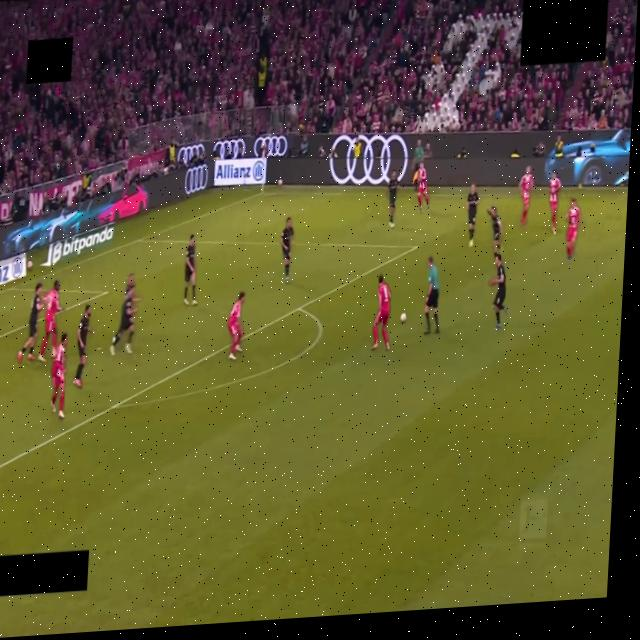ball: (400, 313, 407, 323)
player: (18, 283, 43, 361), (38, 281, 62, 362), (110, 289, 136, 355), (74, 305, 93, 387), (372, 275, 390, 349), (490, 254, 507, 330), (52, 333, 67, 418), (228, 292, 244, 359), (546, 170, 562, 236), (465, 183, 480, 247), (184, 234, 197, 305), (566, 199, 581, 260), (519, 166, 534, 224), (281, 217, 294, 283), (487, 206, 502, 257), (388, 170, 398, 228), (418, 161, 429, 212), (124, 273, 140, 303), (124, 273, 135, 300)
referee: (424, 257, 439, 334)
